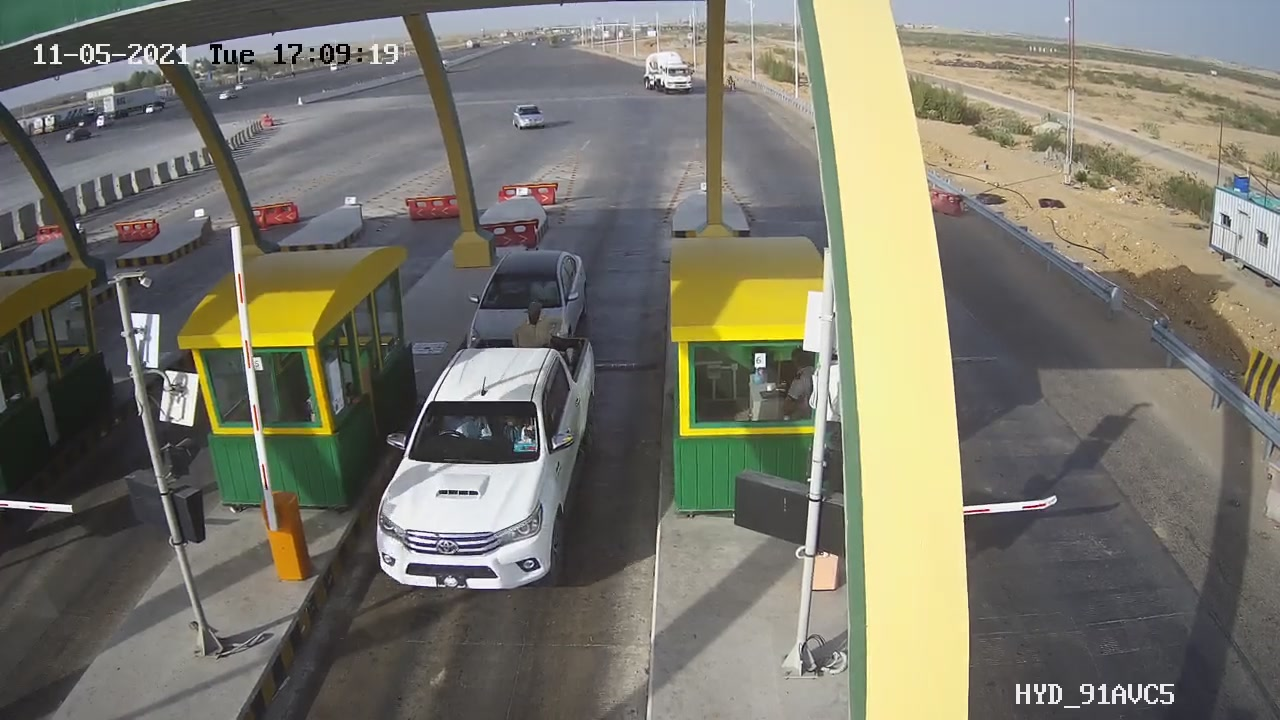F1: (350, 304, 616, 614)
